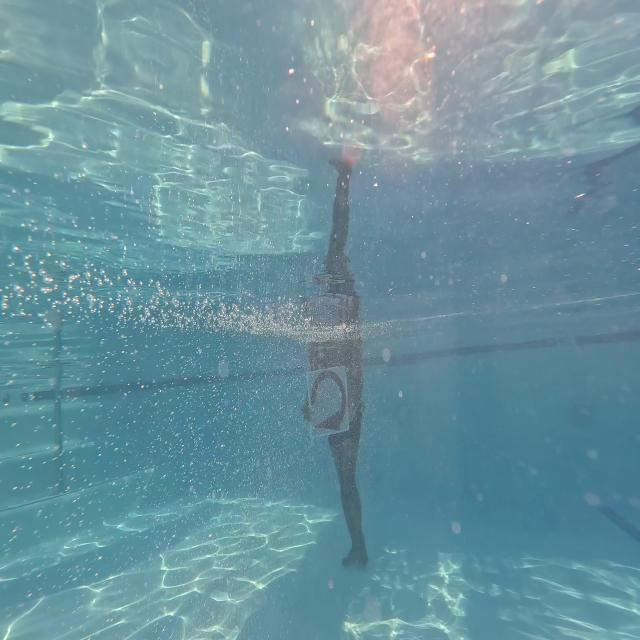red_side: (300, 357, 359, 447)
